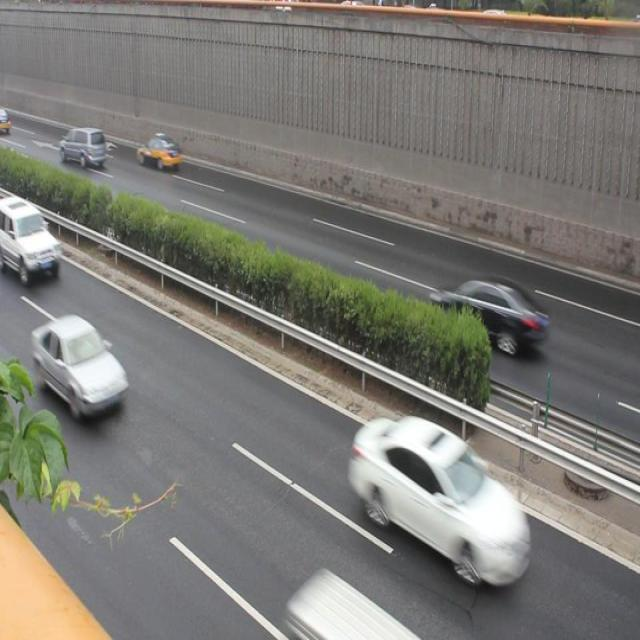car: (353, 414, 530, 585), (34, 315, 128, 420), (428, 272, 548, 350), (0, 198, 60, 282), (136, 132, 182, 173)
truck: (284, 569, 403, 640), (59, 125, 107, 168)
